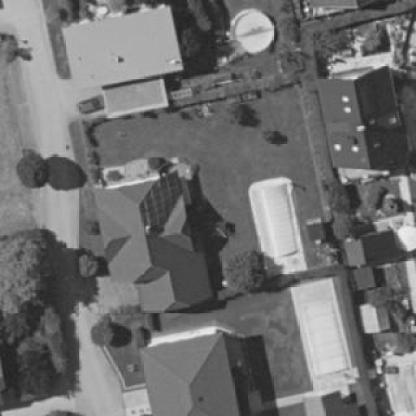solar-pv-panel: (146, 172, 180, 227)
